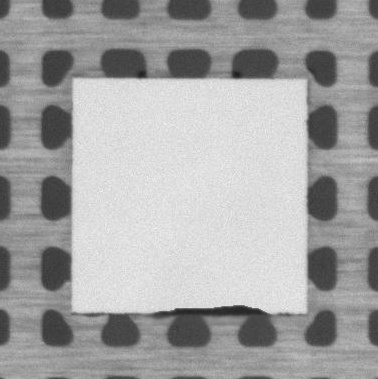DIE_BROKEN: (157, 303, 274, 318)
